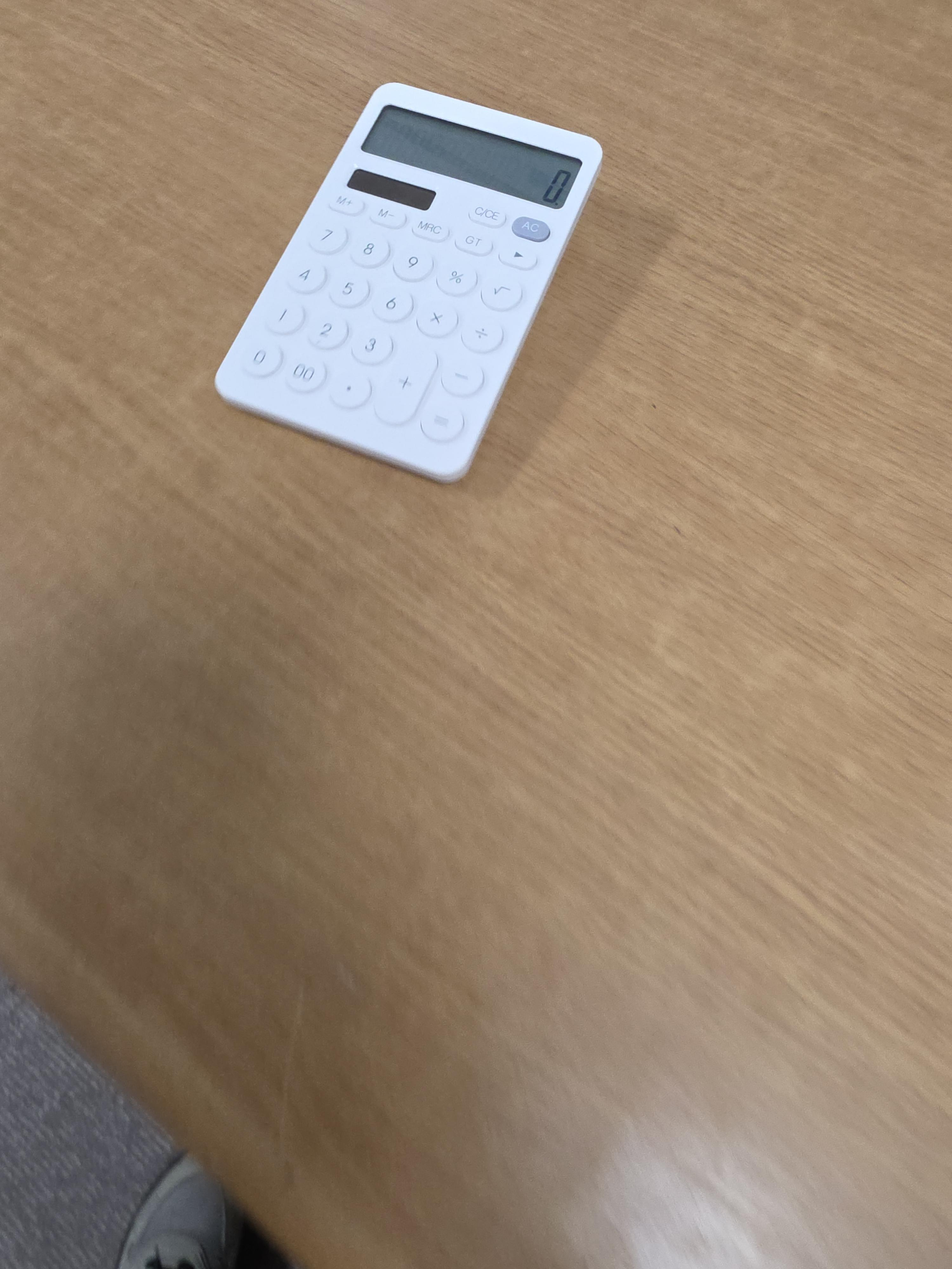calculator: (214, 81, 604, 483)
